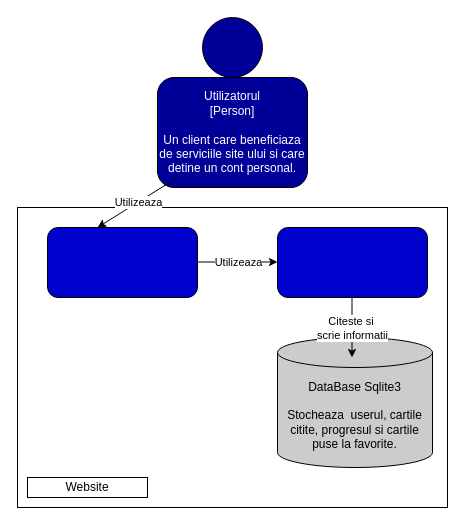
Some shapes in this 465 by 525 pixel diagram are drawn without their labels. Each missing label, with the box of its shape:
Browser Pentru interactiunea utilizatorului cu site ul.: (46, 226, 198, 298)
WebServer Pentru gestionarea cererilor HTTP: (276, 226, 428, 298)
